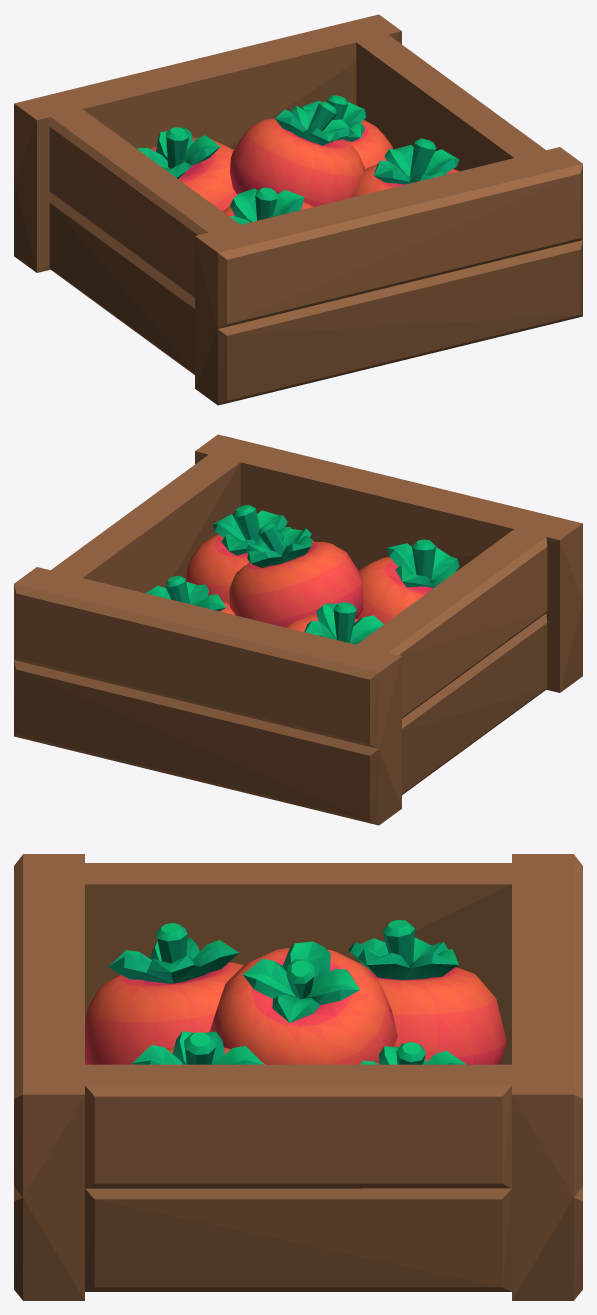
Rendered from kaykit_restaurant_crate_tomatoes.glb.
3 views of the same model, one above another, from view 1: azimuth 30°, elevation 25°; view 2: azimuth 150°, elevation 25°; view 3: azimuth 270°, elevation 25° (orthographic). The views are drawn at different scales.
Visible parts, largest first — view 1: wood, plaster; view 2: wood, plaster; view 3: wood, plaster.
Part boxes in pixels (bbox=[...]): wood: bbox=[14, 14, 582, 405]; plaster: bbox=[137, 95, 459, 224]; wood: bbox=[14, 434, 582, 825]; plaster: bbox=[146, 504, 459, 644]; wood: bbox=[14, 854, 582, 1300]; plaster: bbox=[85, 920, 506, 1064].
Bounding box in the file's own units: 2 × 0.9233 × 2.
